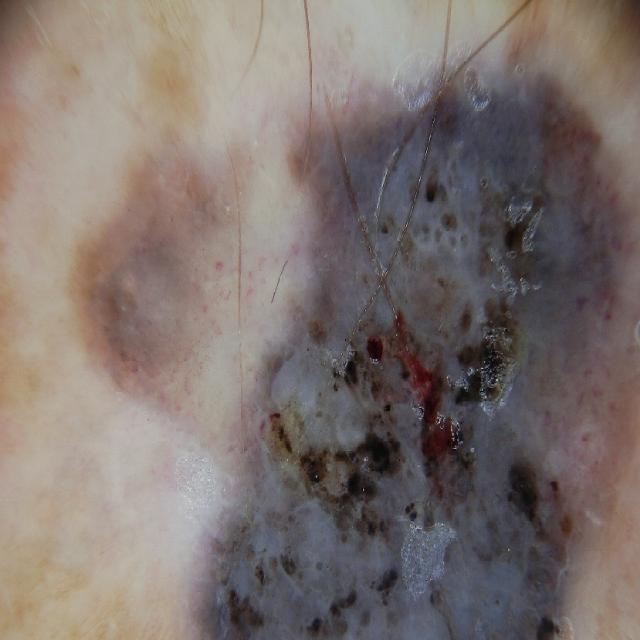Melanoma: (189, 42, 627, 640)
